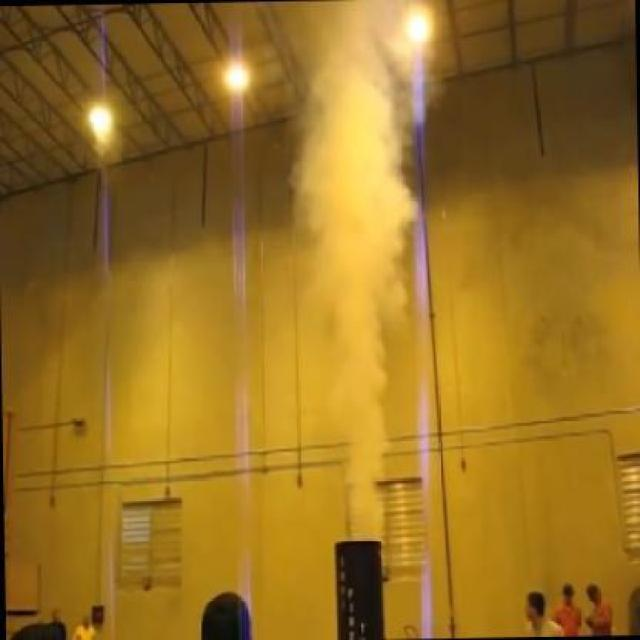fire: (284, 0, 447, 538)
